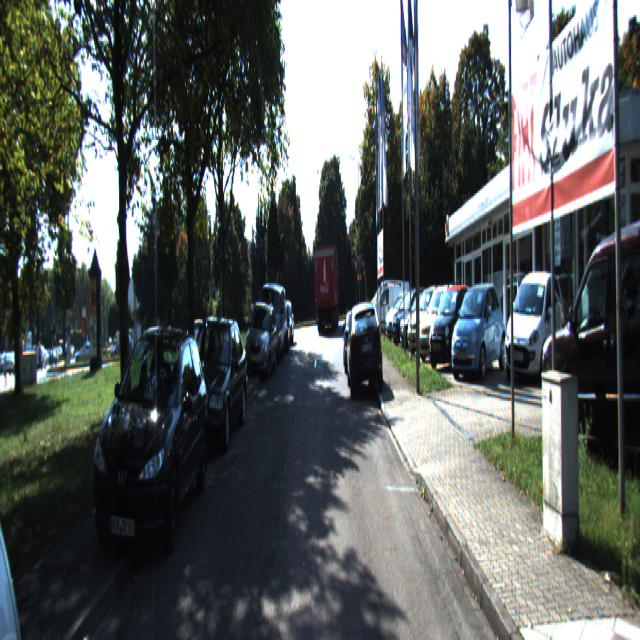Car: (88, 325, 212, 581), (540, 203, 640, 476), (0, 343, 88, 638), (176, 312, 249, 461), (502, 264, 567, 388), (449, 281, 509, 381), (427, 284, 477, 373), (346, 300, 385, 403), (416, 288, 466, 366), (406, 282, 454, 356), (244, 300, 278, 382), (257, 283, 287, 367), (314, 244, 341, 335), (369, 285, 406, 340)
